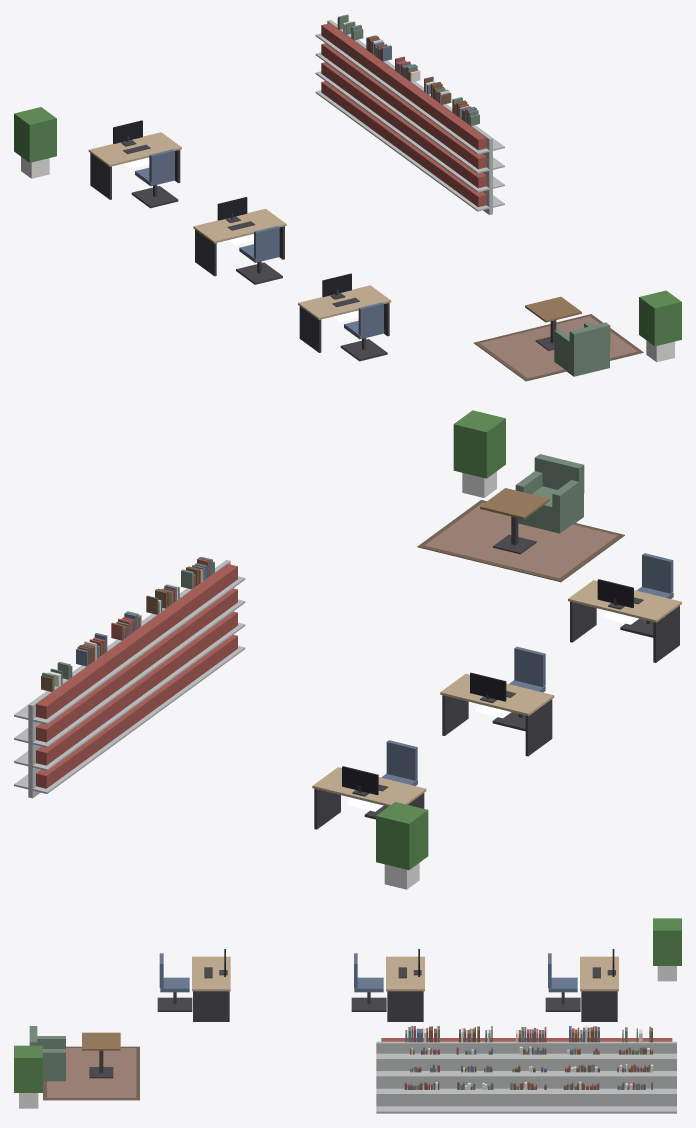
Rendered from fine-s1.glb.
3 renders of one model, top to bottom at view 1: azimuth 30°, elevation 25°; view 2: azimuth 150°, elevation 25°; view 3: azimuth 270°, elevation 25°, orthographic. The views are drawn at different scales.
Parts seen in each view (by area): view 1: soft-s1, shelving.005, shelving.001, shelving.004, office-desk-real.002, office-desk-real.001, office-desk-real.000, shelving.002, shelving.003, plant-medium.001, plant-medium.000, sofa.000 (+4 smaller); view 2: soft-s1, shelving.001, shelving.005, office-desk-real.001, office-desk-real.002, shelving.003, shelving.002, plant-medium.001, sofa.000, plant-medium.000, office-desk-real.000, shelving.004 (+4 smaller); view 3: soft-s1, shelving.001, shelving.005, shelving.004, shelving.003, shelving.002, office-desk-real.000, office-desk-real.001, office-desk-real.002, plant-medium.000, plant-medium.001, sofa.000 (+4 smaller).
Part boxes in pixels (x1,y1,x2,y2): soft-s1: [337, 14, 643, 381]; shelving.005: [431, 105, 504, 214]; shelving.001: [315, 20, 389, 126]; shelving.004: [402, 83, 475, 190]; office-desk-real.002: [298, 273, 391, 352]; office-desk-real.001: [193, 197, 286, 276]; office-desk-real.000: [88, 120, 181, 199]; shelving.002: [344, 45, 401, 147]; shelving.003: [373, 62, 446, 167]; plant-medium.001: [14, 107, 56, 178]; plant-medium.000: [639, 290, 681, 362]; sofa.000: [554, 322, 610, 376]; soft-s1: [41, 500, 624, 691]; shelving.001: [14, 664, 104, 798]; shelving.005: [174, 560, 245, 690]; office-desk-real.001: [440, 672, 554, 756]; office-desk-real.002: [568, 579, 681, 662]; shelving.003: [106, 614, 174, 741]; shelving.002: [62, 639, 139, 766]; plant-medium.001: [376, 802, 428, 889]; sofa.000: [515, 454, 584, 533]; plant-medium.000: [453, 410, 505, 497]; office-desk-real.000: [312, 766, 426, 829]; shelving.004: [142, 589, 209, 716]; soft-s1: [43, 1026, 653, 1100]; shelving.001: [589, 1038, 676, 1113]; shelving.005: [376, 1038, 463, 1113]; shelving.004: [429, 1038, 516, 1113]; shelving.003: [483, 1038, 570, 1113]; shelving.002: [536, 1038, 623, 1113]; office-desk-real.000: [580, 949, 618, 1021]; office-desk-real.001: [386, 949, 424, 1021]; office-desk-real.002: [192, 949, 230, 1021]; plant-medium.000: [14, 1045, 42, 1108]; plant-medium.001: [653, 918, 681, 981]; sofa.000: [29, 1026, 65, 1081].
Size of the model in its own units: 7.2 by 1.93 by 13.77.
